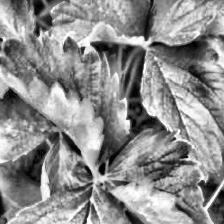Powdery Mildew Leaf: (0, 26, 131, 175)
